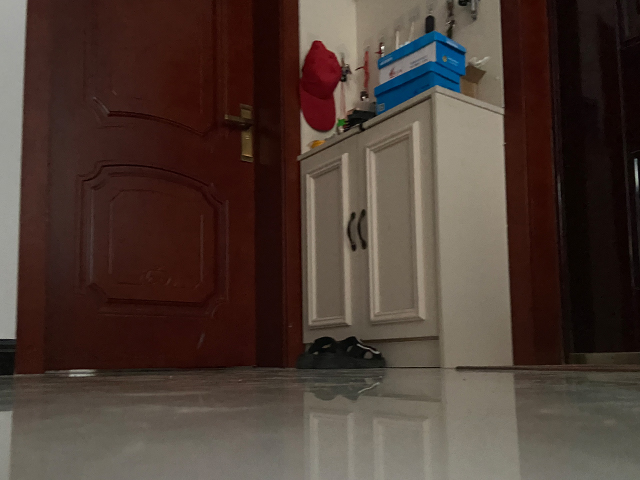cabinet: (294, 83, 514, 371)
slippers: (294, 335, 388, 370)
